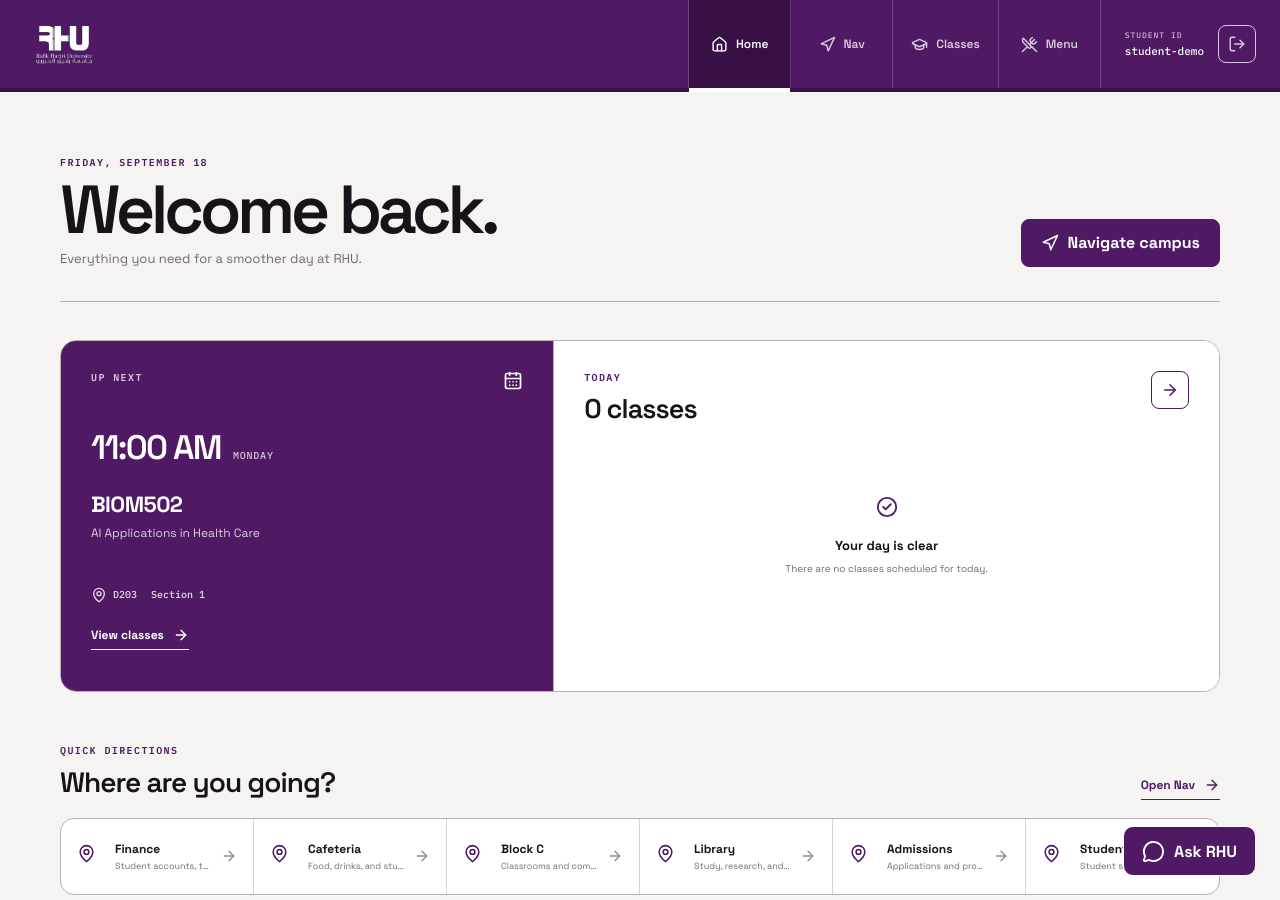
Scenario: RHU student experience › calculates the selected destination distance automatically
What coordinates should you click on to do the following:
click the button "Nav"
I would click on:
 (842, 44)
Its box is [791,0,893,88].
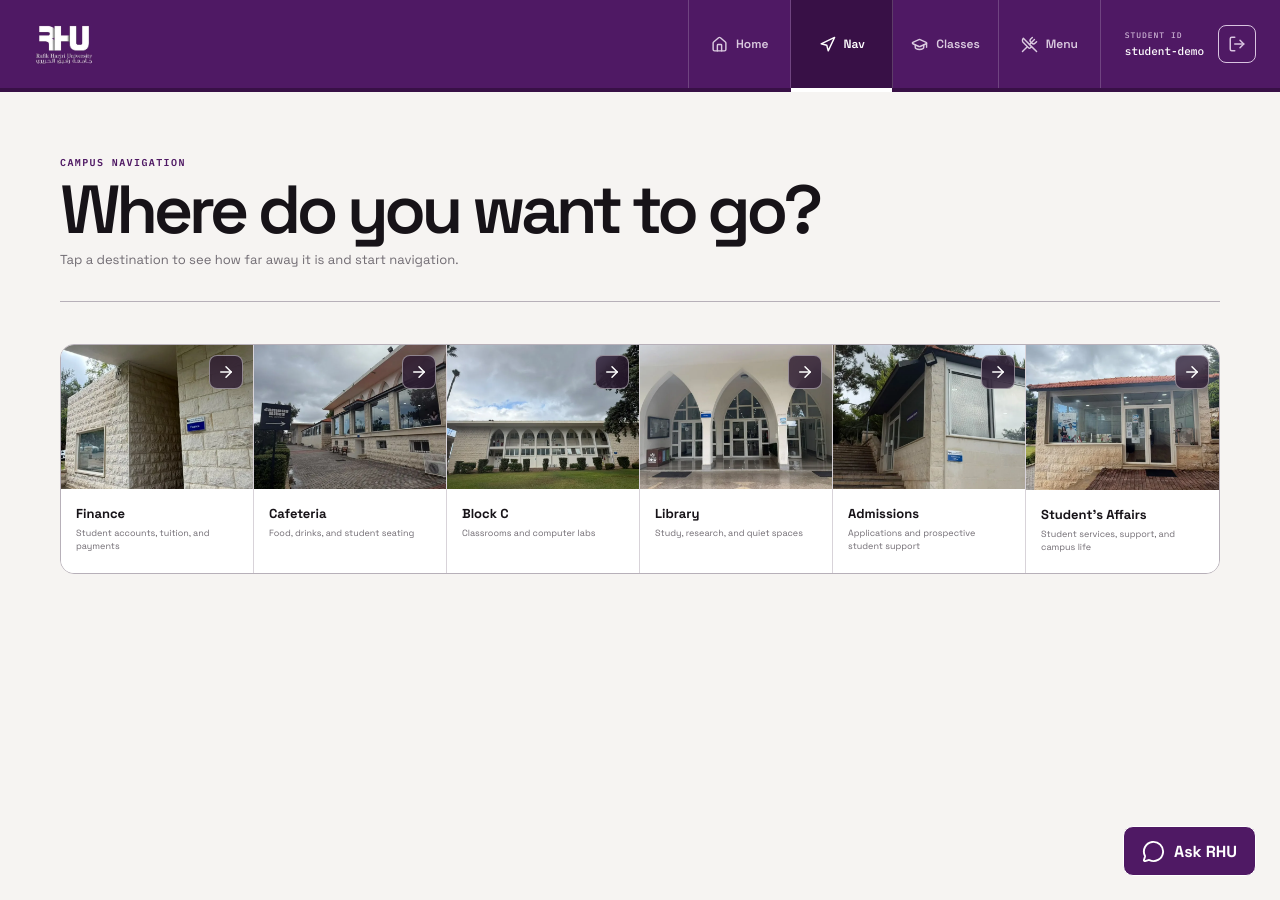
What coordinates should you click on to do the following:
click the button "Library Study, research, and quiet spaces"
I would click on:
 (736, 459)
Its box is [640,345,833,573].
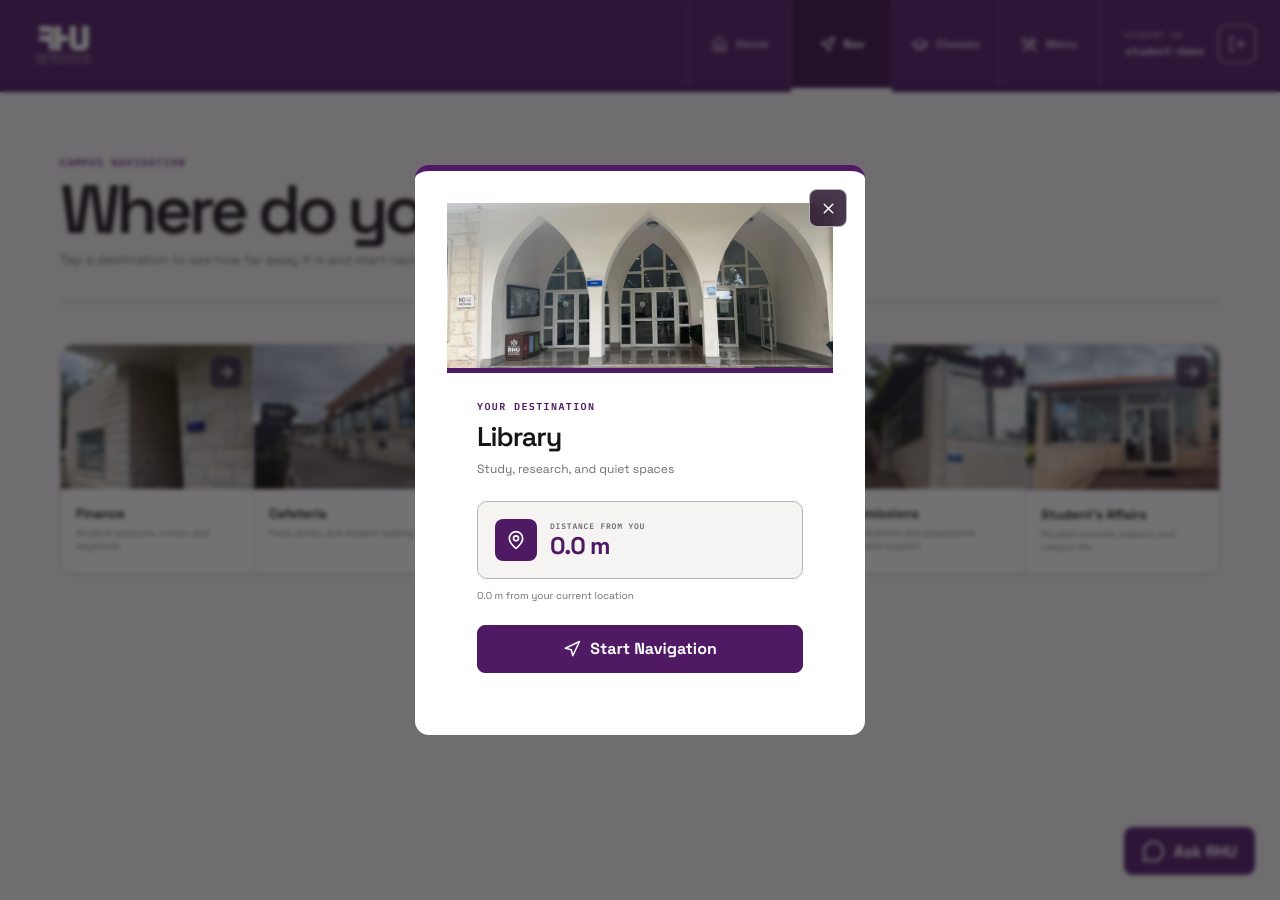
Expected: the text "0.0 m" is shown, [550,530,610,561]
